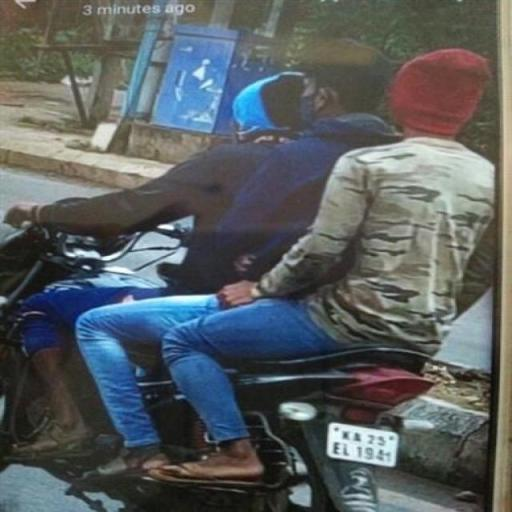tripple riding: (8, 49, 494, 315)
